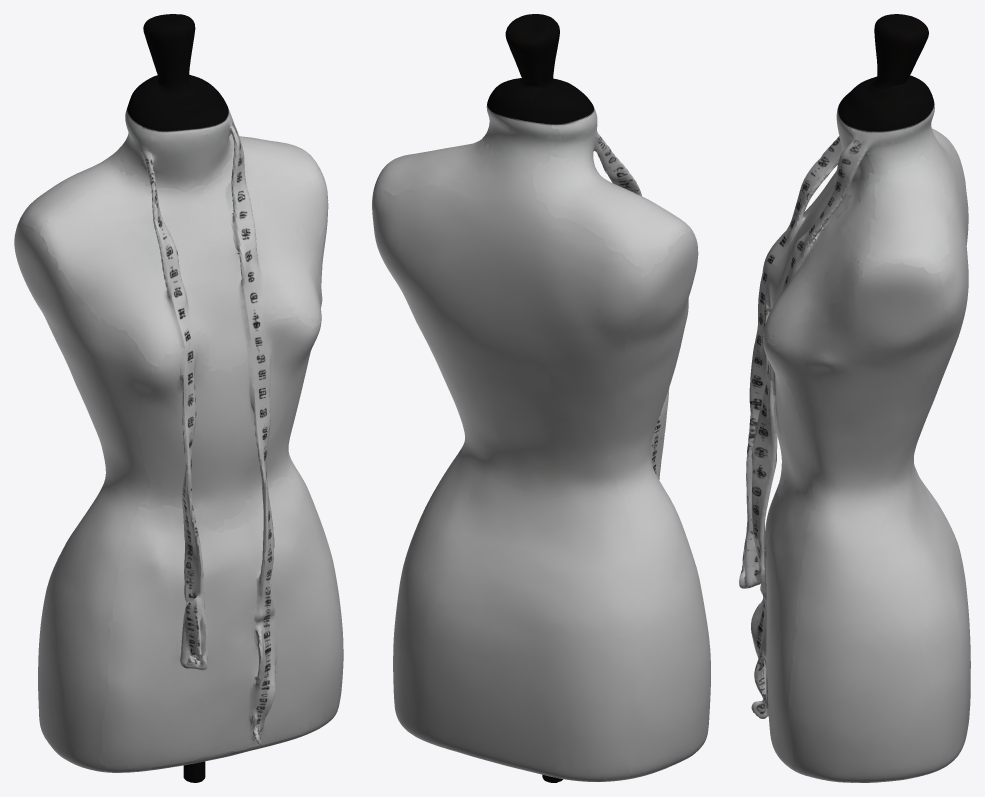
The model's file is manekin.glb.
3 renders of one model, left to right at view 1: azimuth 30°, elevation 25°; view 2: azimuth 150°, elevation 25°; view 3: azimuth 270°, elevation 25°, orthographic. The views are drawn at different scales.
Parts seen in each view (by area): view 1: textured_mesh.obj; view 2: textured_mesh.obj; view 3: textured_mesh.obj.
Part boxes in pixels (left/top/right/bottom): textured_mesh.obj: left=14, top=14, right=343, bottom=782; textured_mesh.obj: left=372, top=14, right=710, bottom=782; textured_mesh.obj: left=739, top=14, right=970, bottom=782.
Size of the model in its own units: 0.8066 by 2 by 0.556.
Materials: 1 (1 with a texture image).
